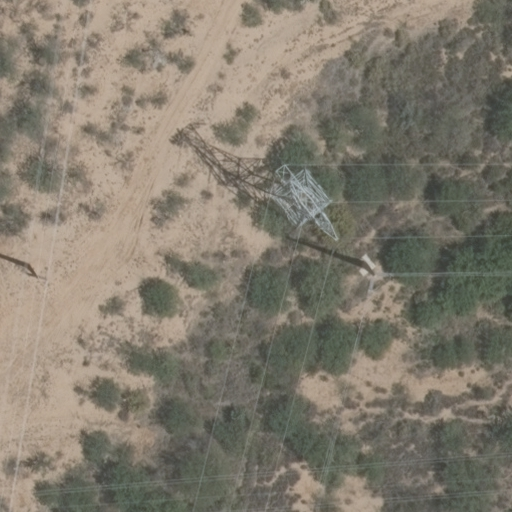DT: (21, 262, 49, 284)
TT: (245, 162, 340, 241)
